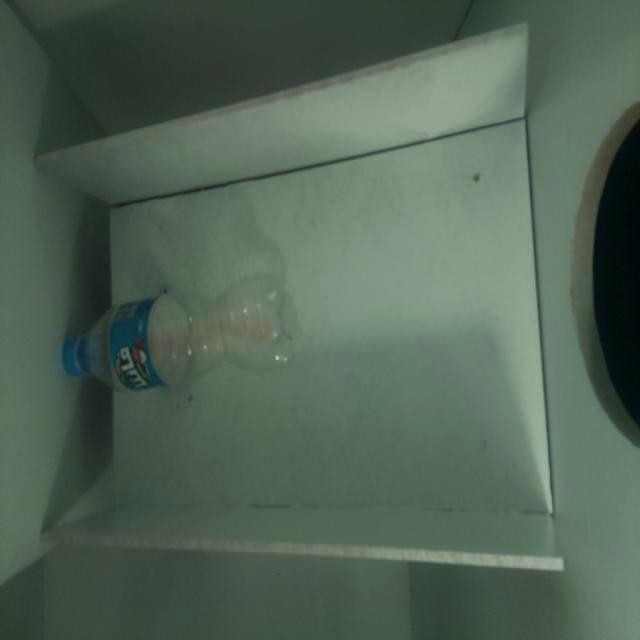bottle: (62, 275, 301, 392)
